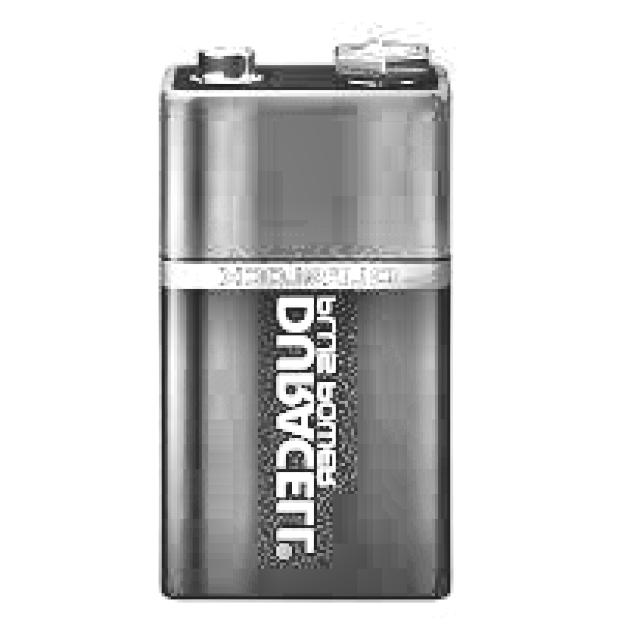Battery: (165, 43, 447, 602)
